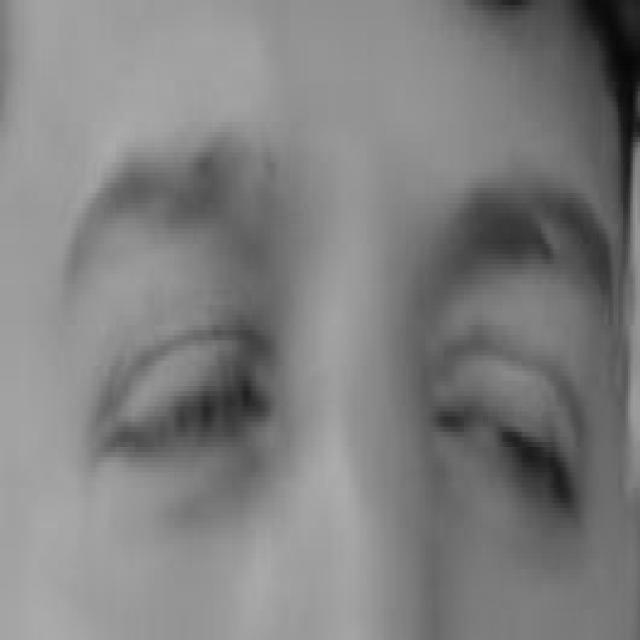real: (68, 176, 614, 574)
